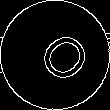O_SW: (21, 22, 89, 88)
